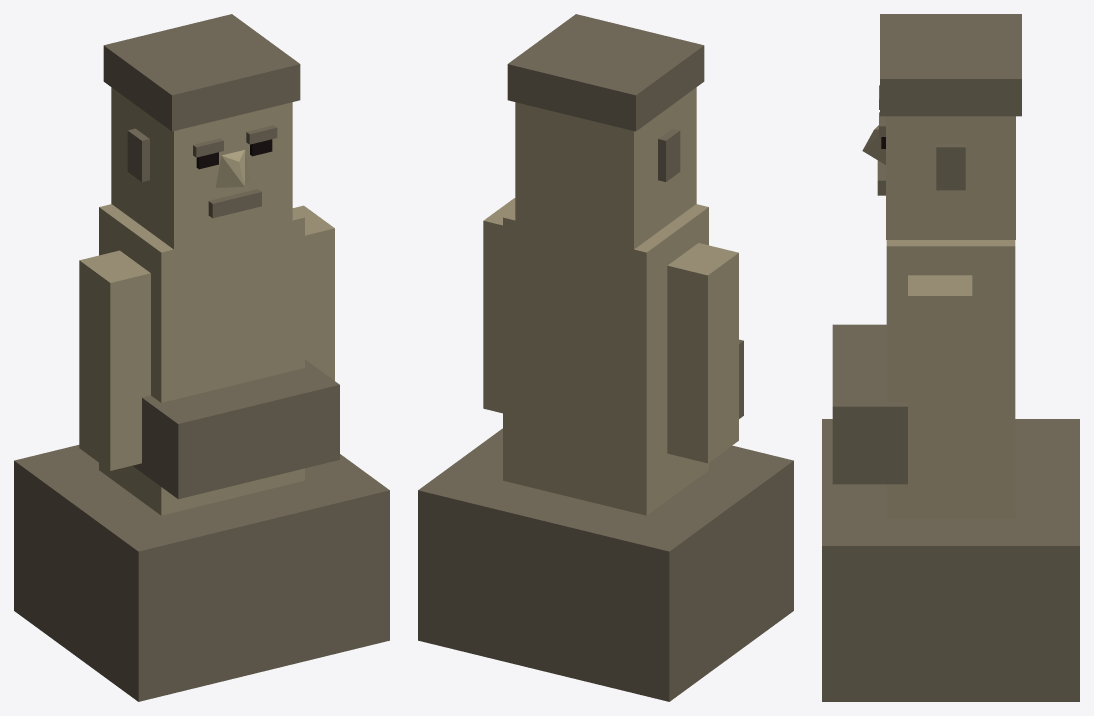
File: statue_full.glb
The picture shows the model from 3 angles, left to right: view 1: azimuth 30°, elevation 25°; view 2: azimuth 150°, elevation 25°; view 3: azimuth 270°, elevation 25°; orthographic projection. The views are drawn at different scales.
Visible parts, largest first — view 1: stone_temple_dark-col, stone_temple-col, eye; view 2: stone_temple_dark-col, stone_temple-col; view 3: stone_temple_dark-col, stone_temple-col.
Part boxes in pixels (left/top/right/bottom): stone_temple_dark-col: left=14, top=14, right=389, bottom=701; stone_temple-col: left=79, top=87, right=334, bottom=515; eye: left=196, top=139, right=272, bottom=169; stone_temple_dark-col: left=418, top=14, right=793, bottom=701; stone_temple-col: left=483, top=87, right=738, bottom=515; stone_temple_dark-col: left=822, top=14, right=1079, bottom=701; stone_temple-col: left=862, top=116, right=1015, bottom=518.
Size of the model in its own units: 1.4 by 3.04 by 1.2.
